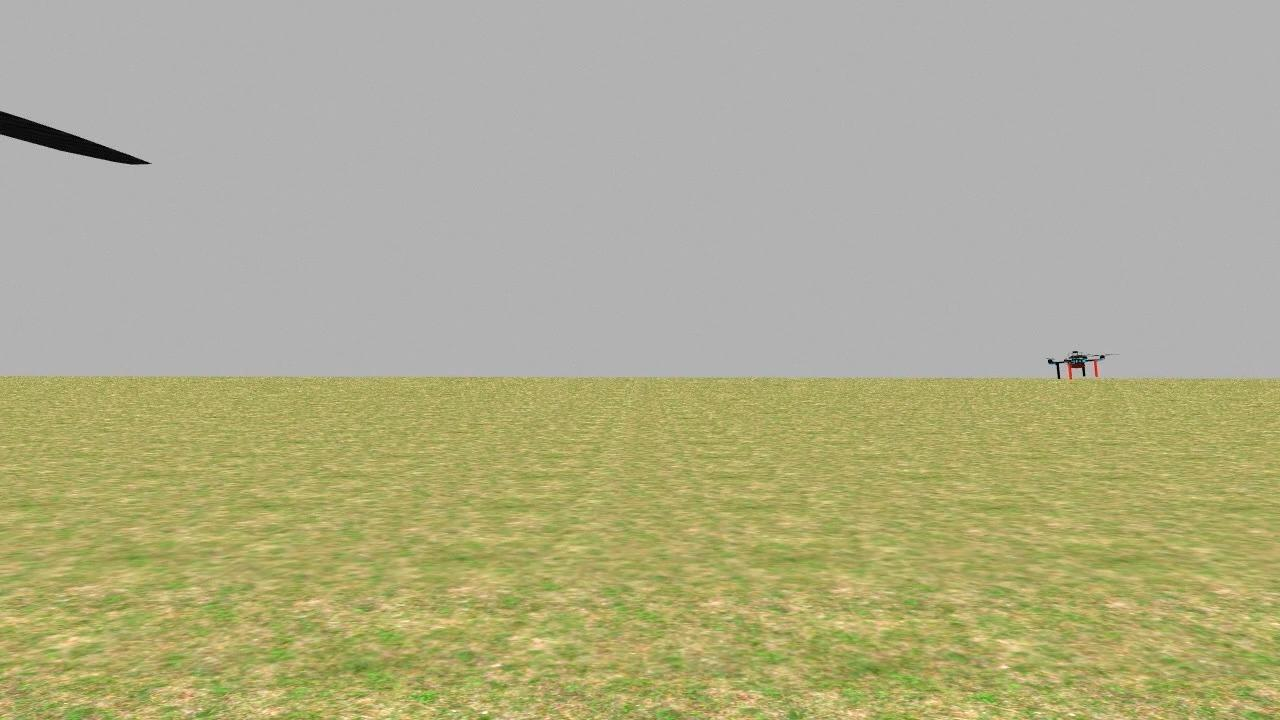UAV: (1039, 345, 1114, 391)
